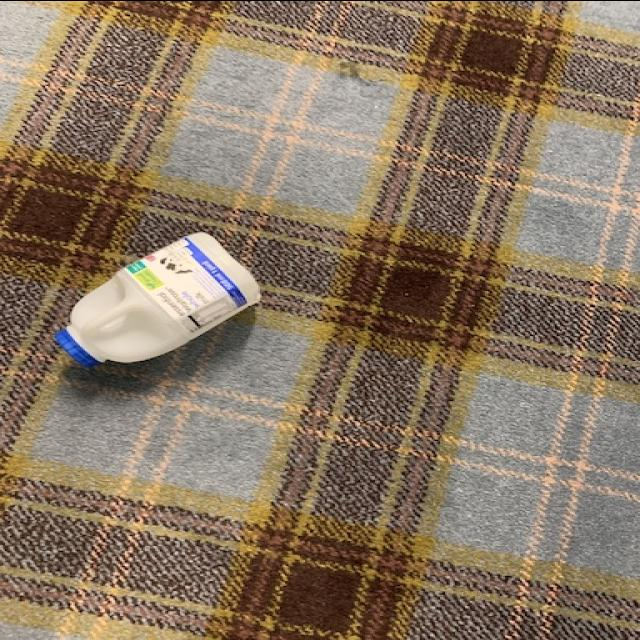HDPEM: (54, 226, 268, 366)
